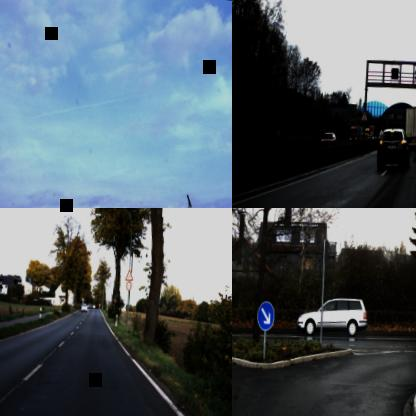SCHOOL CROSSING: (124, 268, 133, 280)
keep right: (255, 300, 275, 330)
speed limit 50: (126, 280, 132, 290)
traffic signal: (360, 108, 368, 121)
